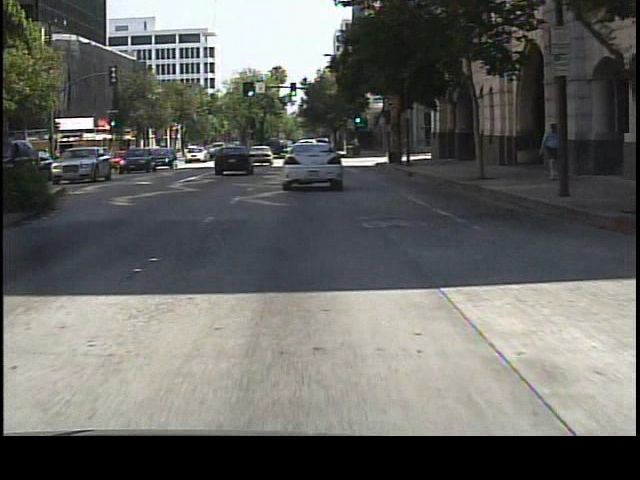person: (537, 119, 562, 186)
